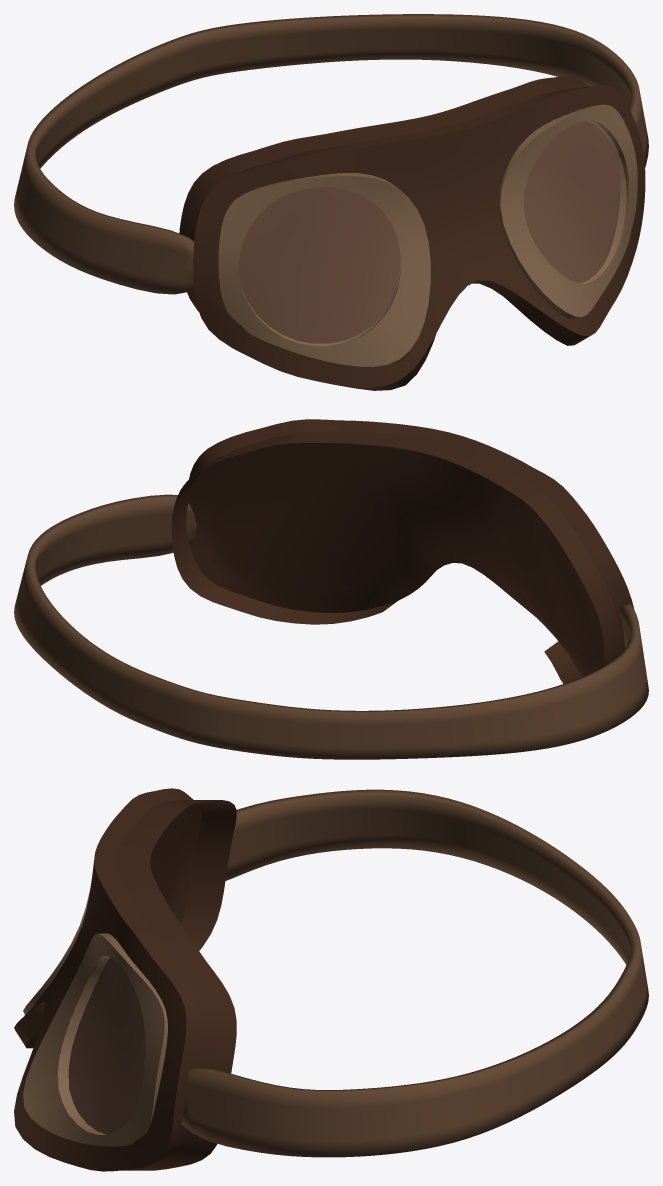
File: fox_goggles_NH.glb
3 renders of one model, top to bottom at view 1: azimuth 30°, elevation 25°; view 2: azimuth 150°, elevation 25°; view 3: azimuth 270°, elevation 25°, orthographic. The views are drawn at different scales.
Parts seen in each view (by area): view 1: fox goggles outer, fox goggles, fox goggles inner; view 2: fox goggles outer, fox goggles; view 3: fox goggles, fox goggles outer, fox goggles inner.
Boxes of the visible parts, <box> form: fox goggles outer: <box>179,76,645,390</box>; fox goggles: <box>14,14,648,294</box>; fox goggles inner: <box>218,104,637,367</box>; fox goggles outer: <box>171,419,634,683</box>; fox goggles: <box>14,494,648,759</box>; fox goggles: <box>181,789,648,1157</box>; fox goggles outer: <box>14,788,236,1171</box>; fox goggles inner: <box>23,887,167,1146</box>.
Bounding box in the file's own units: 1.88 × 0.6695 × 1.61.
